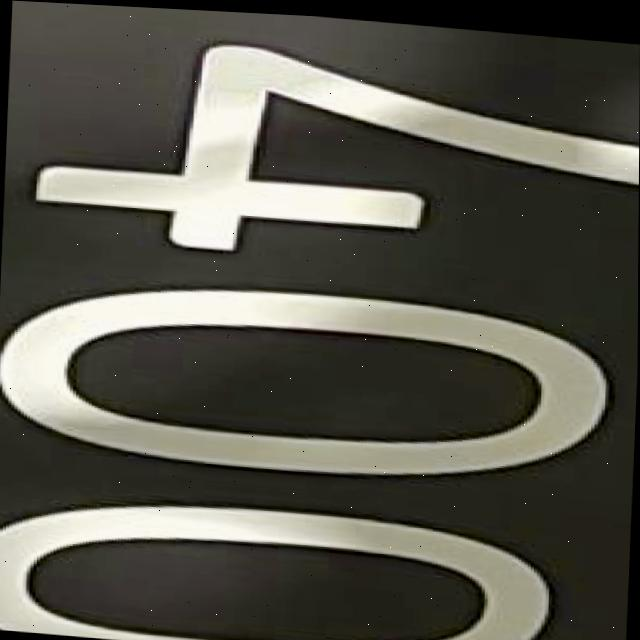character: (20, 19, 640, 293), (0, 256, 620, 504), (0, 478, 557, 640)
